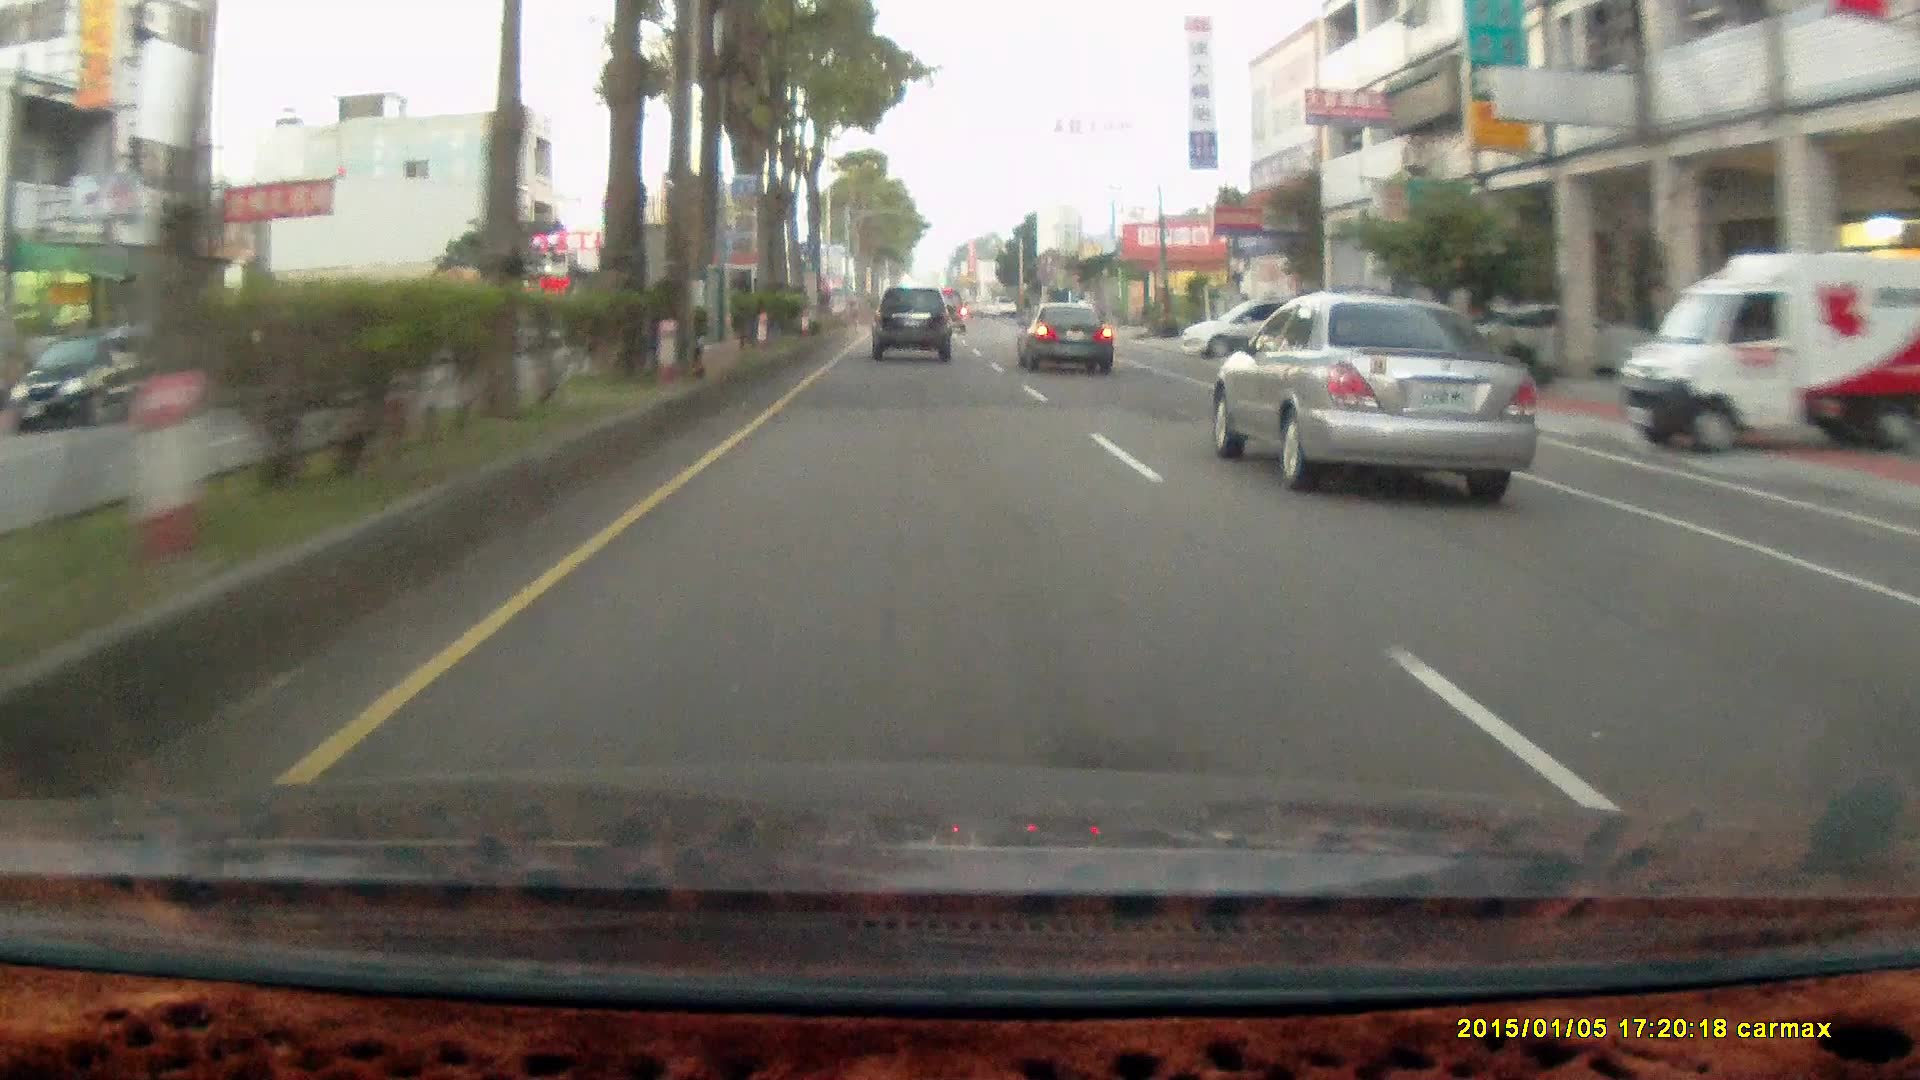vehicle: (1218, 290, 1545, 489), (1623, 251, 1920, 455), (11, 327, 191, 436), (1437, 301, 1652, 378), (12, 332, 171, 433), (1294, 285, 1435, 382), (1182, 302, 1338, 367), (1179, 298, 1333, 363), (1015, 301, 1120, 377), (1015, 299, 1114, 373), (872, 287, 955, 363), (870, 284, 951, 359)
